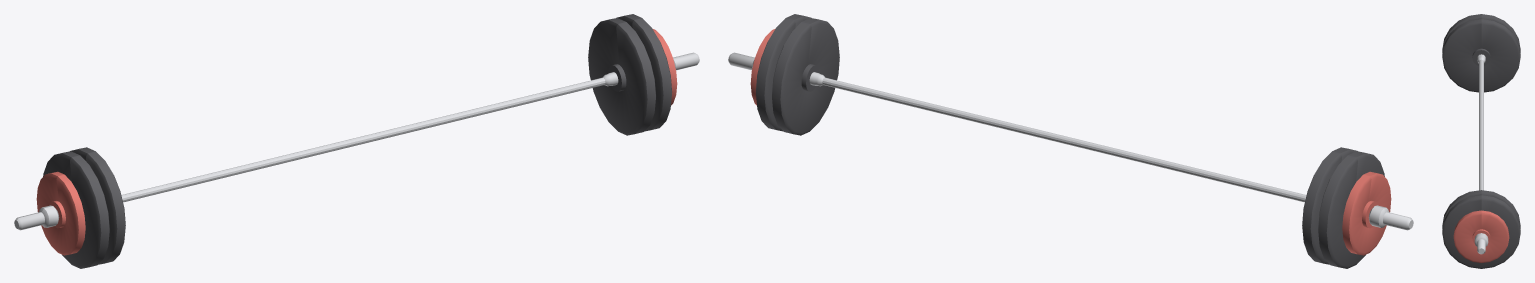
Rendered from barbell.glb.
The picture shows the model from 3 angles, left to right: view 1: azimuth 30°, elevation 25°; view 2: azimuth 150°, elevation 25°; view 3: azimuth 270°, elevation 25°; orthographic projection. The views are drawn at different scales.
Parts seen in each view (by area): view 1: barbell-loaded; view 2: barbell-loaded; view 3: barbell-loaded.
Part boxes in pixels (x1,y1,x2,y2): barbell-loaded: (14,14,699,268); barbell-loaded: (728,14,1413,268); barbell-loaded: (1442,14,1520,268).
Size of the model in its own units: 2.98 by 0.4498 by 0.4498.
